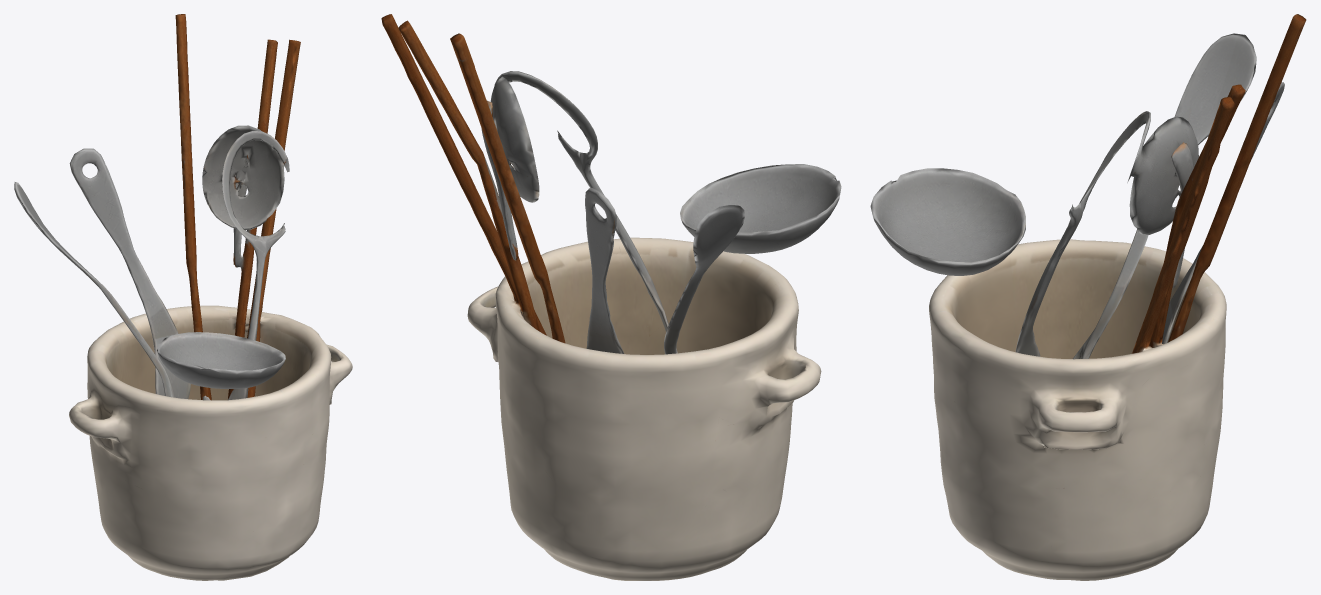
File: UtensilCrock.fbx
The picture shows the model from 3 angles, left to right: view 1: azimuth 30°, elevation 25°; view 2: azimuth 150°, elevation 25°; view 3: azimuth 270°, elevation 25°; orthographic projection. The views are drawn at different scales.
Parts seen in each view (by area): view 1: Mesh_0; view 2: Mesh_0; view 3: Mesh_0.
Part boxes in pixels (<box>): Mesh_0: <box>14,14,352,580</box>; Mesh_0: <box>381,14,841,580</box>; Mesh_0: <box>870,14,1306,580</box>.
Bounding box in the file's own units: 125 × 190 × 134.
1 material, 1 textured.
